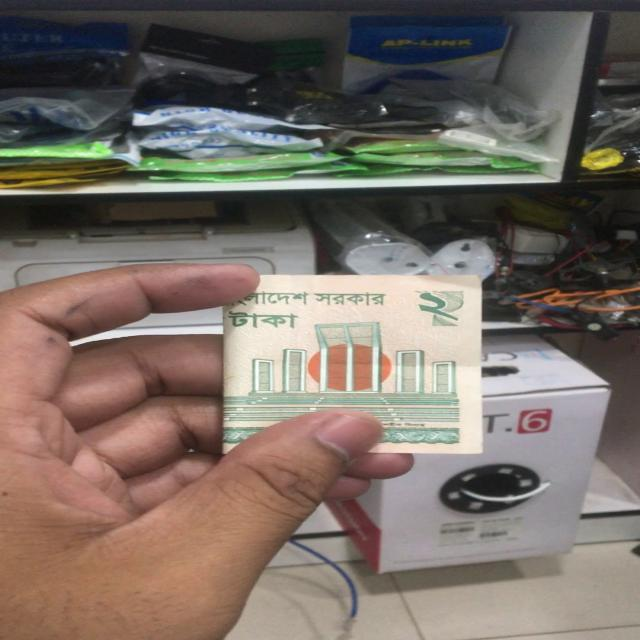Taka: (267, 276, 483, 448)
